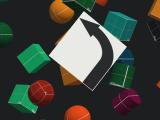Left: (49, 11, 127, 91)
